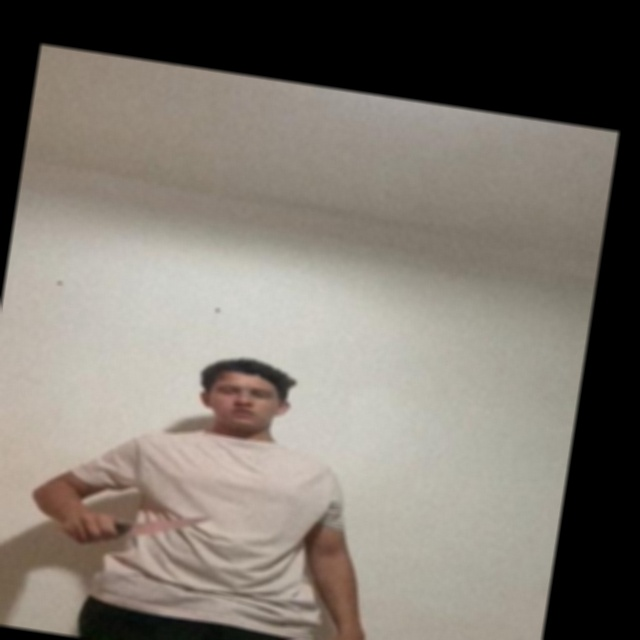Sharp-Object: (129, 508, 205, 542)
